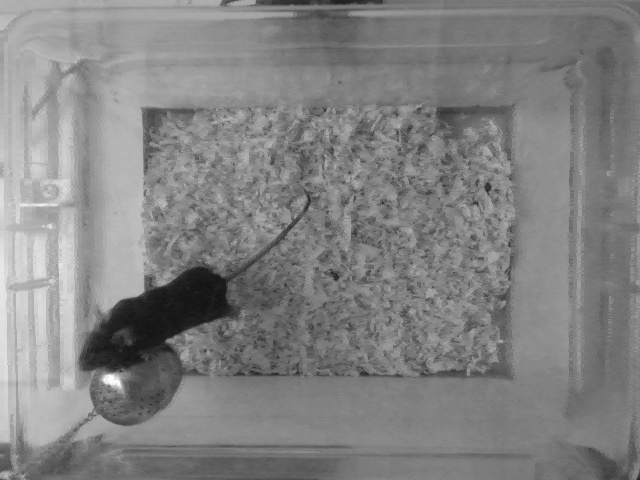mice: (80, 188, 316, 376)
